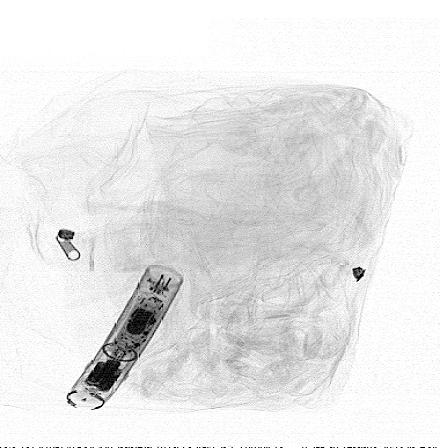Baton: (65, 263, 185, 412)
